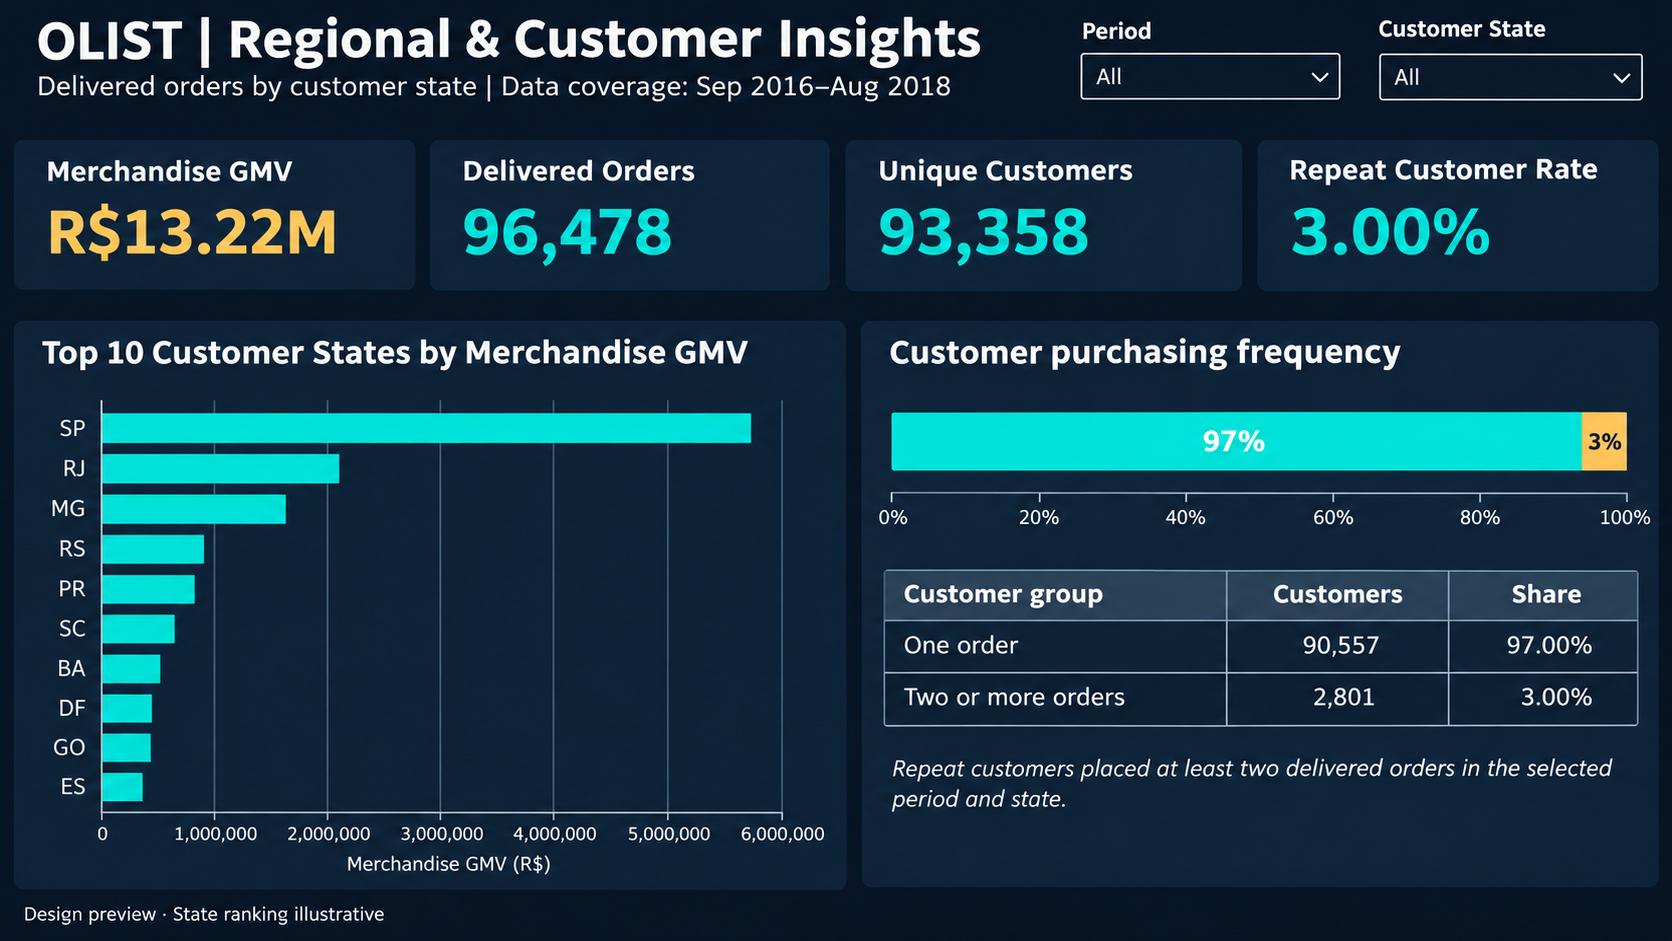

The dashboard page shown, as its layout file describes it:
{"tool":"powerbi","page":{"name":"Regional & Customer Insights","canvas":[1920,1080],"ordinal":2},"visuals":[{"type":"clusteredBarChart","title":"Top 10 Customer States by Merchandise GMV (R$)","fields":{"Category":["dim_customer_state.customer_state"],"Y":["fact_order_items.Merchandise GMV"]},"box":[40,328,910,700],"z":0},{"type":"textbox","box":[40,16,1400,80],"z":1000},{"type":"textbox","box":[40,88,1400,32],"z":2000},{"type":"cardVisual","title":"Merchandise GMV","fields":{"Data":["fact_order_items.Merchandise GMV"]},"box":[40,144,445,160],"z":3000},{"type":"cardVisual","title":"Delivered Orders","fields":{"Data":["fact_orders.Delivered Orders"]},"box":[505,144,445,160],"z":4000},{"type":"cardVisual","title":"Unique Customers","fields":{"Data":["fact_orders.Unique Customers"]},"box":[970,144,445,160],"z":5000},{"type":"cardVisual","title":"Repeat Customer Rate","fields":{"Data":["fact_orders.Repeat Customer Rate"]},"box":[1435,144,445,160],"z":6000},{"type":"slicer","title":"Period","fields":{"Values":["dim_date.year_month"]},"box":[1460,24,180,88],"z":7000},{"type":"hundredPercentStackedBarChart","title":"Customer Purchasing Frequency","fields":{"Series":["Customer Purchase Groups.Customer Group"],"Y":["fact_orders.Customer Group Share %"]},"box":[970,328,910,340],"z":9000},{"type":"tableEx","title":"\tCustomer Purchase Summary","fields":{"Values":["Customer Purchase Groups.Customer Group","fact_orders.Customers by Purchase Group","fact_orders.Customer Group Share %"]},"box":[970,668,910,240],"z":10000},{"type":"textbox","box":[970,948,910,80],"z":11000},{"type":"slicer","title":"Customer State","fields":{"Values":["dim_customer_state.customer_state"]},"box":[1660,24,220,88],"z":11001}]}

Visuals, with their boxes in screenshot pixels (x1, y1, x2, y2), scaled from the page's 1920x1080 canvas onto the 1672x941 screenshot:
"Top 10 Customer States by Merchandise GMV (R$)" clusteredBarChart: bbox=[35, 286, 827, 896]
textbox: bbox=[35, 14, 1254, 84]
textbox: bbox=[35, 77, 1254, 105]
"Merchandise GMV" cardVisual: bbox=[35, 125, 422, 265]
"Delivered Orders" cardVisual: bbox=[440, 125, 827, 265]
"Unique Customers" cardVisual: bbox=[845, 125, 1232, 265]
"Repeat Customer Rate" cardVisual: bbox=[1250, 125, 1637, 265]
"Period" slicer: bbox=[1271, 21, 1428, 98]
"Customer Purchasing Frequency" hundredPercentStackedBarChart: bbox=[845, 286, 1637, 582]
"	Customer Purchase Summary" tableEx: bbox=[845, 582, 1637, 791]
textbox: bbox=[845, 826, 1637, 896]
"Customer State" slicer: bbox=[1446, 21, 1637, 98]
